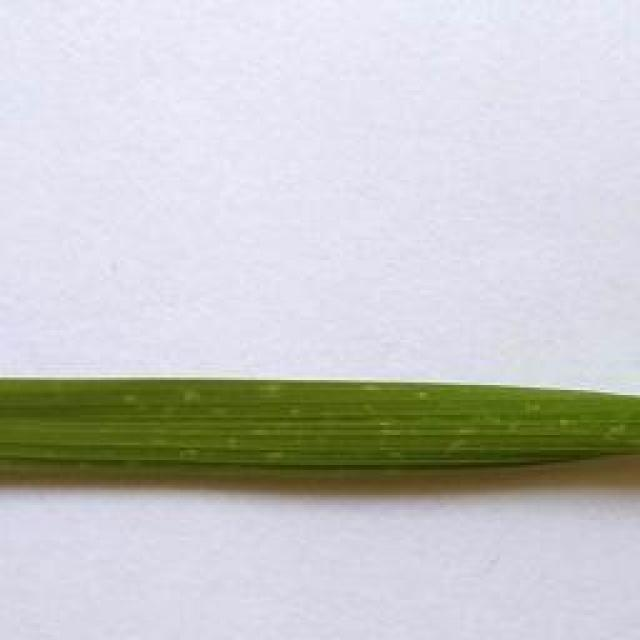Healthy-Plant: (0, 374, 640, 470)
